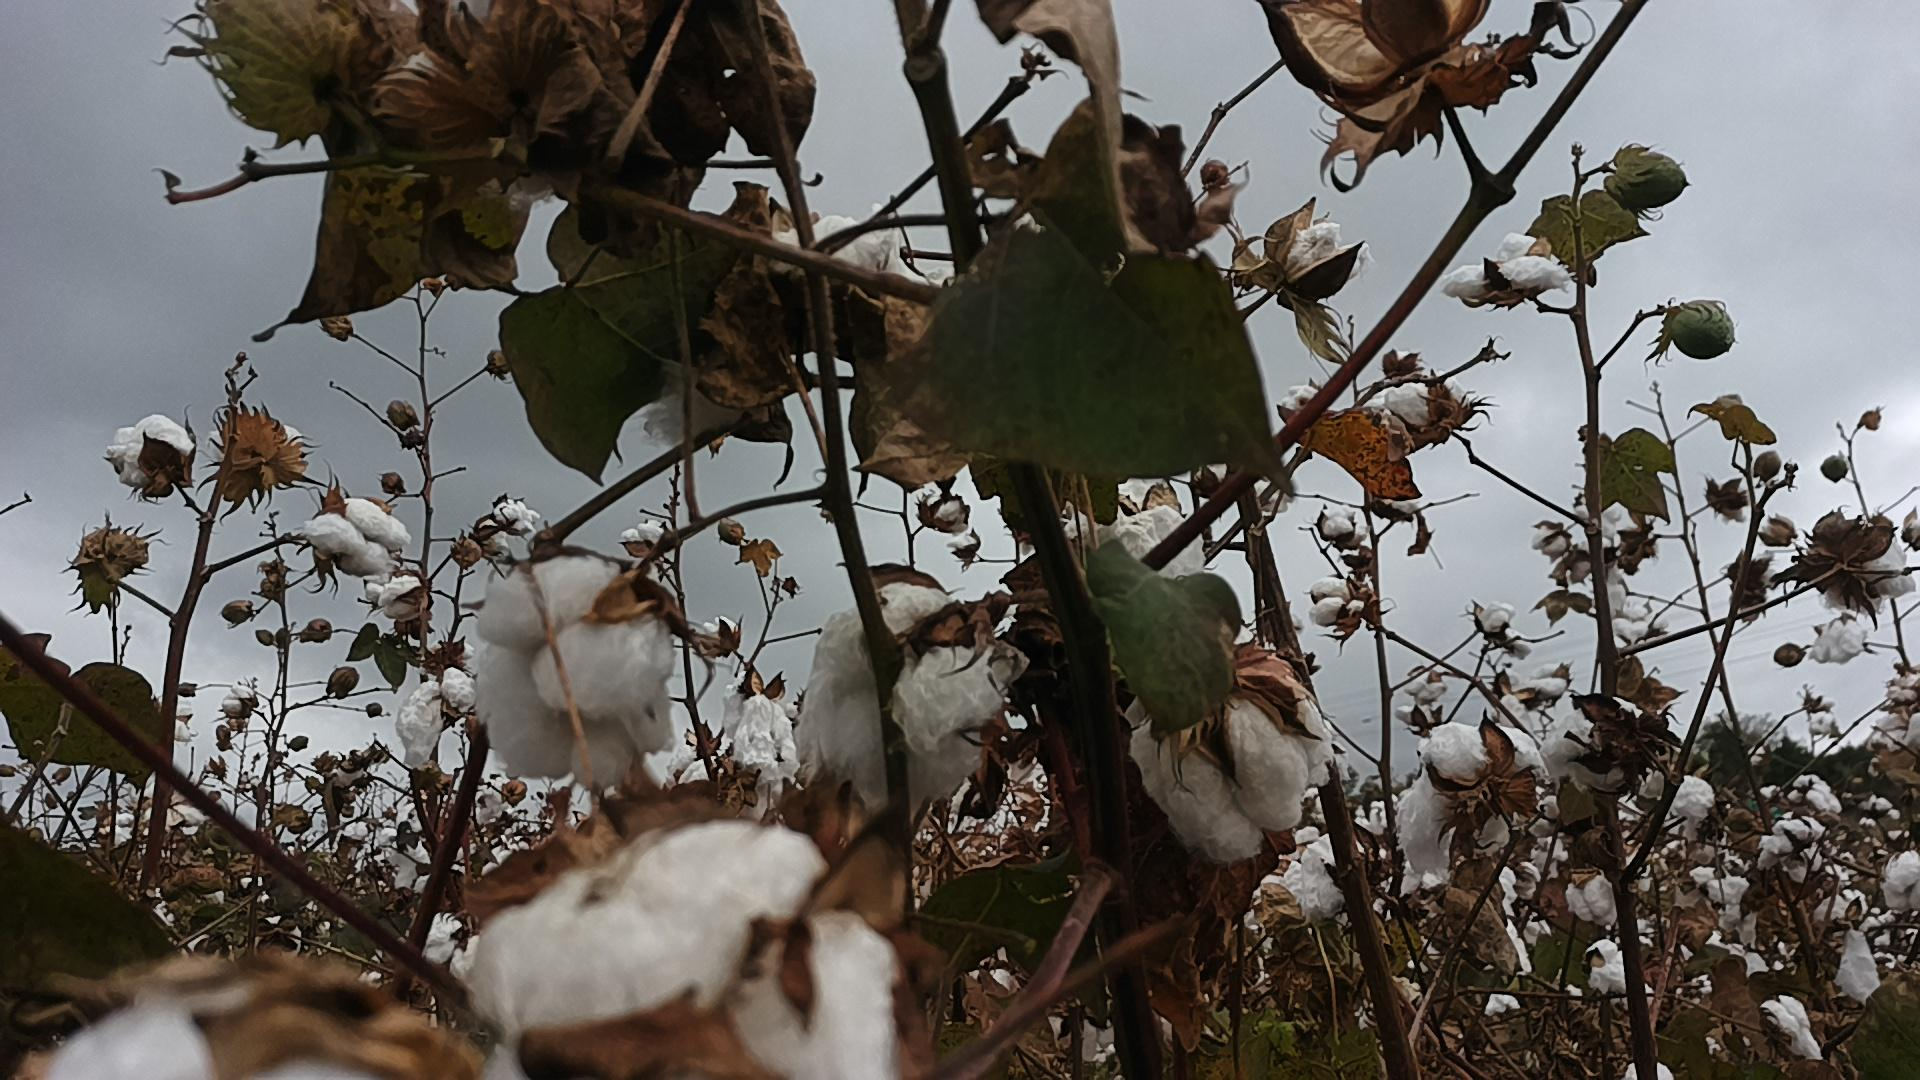cotton_ready: (469, 828, 898, 1080), (644, 200, 901, 446), (468, 560, 675, 791), (795, 585, 1001, 815), (1127, 666, 1333, 865), (47, 1004, 429, 1080), (1395, 720, 1548, 878), (398, 0, 534, 145), (717, 669, 795, 824), (1286, 815, 1393, 916), (1064, 508, 1208, 582), (1545, 695, 1648, 793), (302, 496, 413, 578), (1817, 516, 1913, 609), (1440, 236, 1568, 301), (396, 670, 473, 773), (108, 415, 195, 495), (210, 421, 306, 473), (1383, 378, 1470, 433), (1283, 223, 1358, 277), (422, 915, 468, 981)
